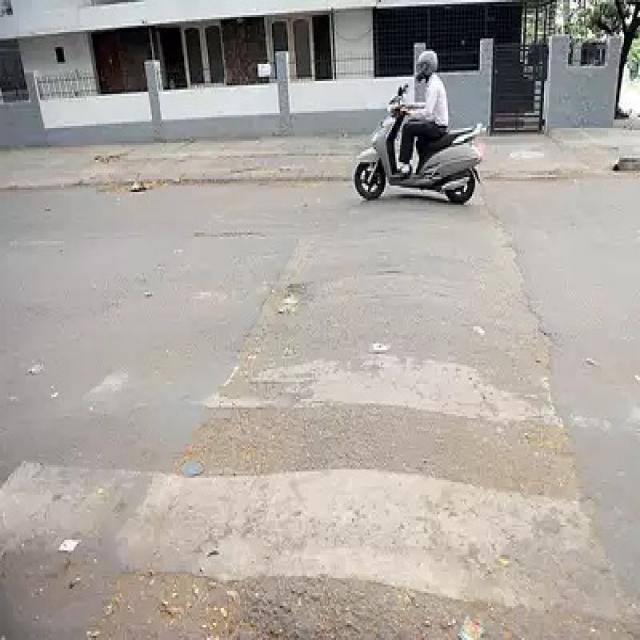speedbreaker: (208, 192, 528, 640)
